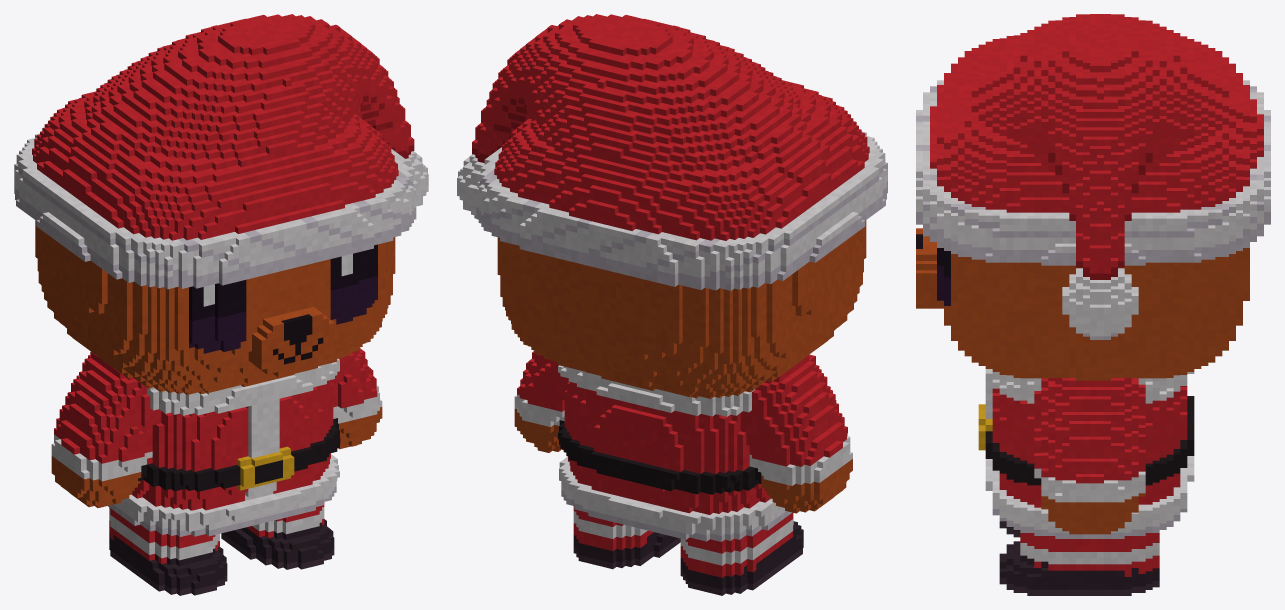
3 views of the same model, side by side, from view 1: azimuth 30°, elevation 25°; view 2: azimuth 150°, elevation 25°; view 3: azimuth 270°, elevation 25° (orthographic). The views are drawn at different scales.
Parts seen in each view (by area): view 1: Brownoel; view 2: Brownoel; view 3: Brownoel.
Boxes of the visible parts, left/top/right/bottom form: Brownoel: left=14, top=14, right=428, bottom=595; Brownoel: left=457, top=14, right=887, bottom=595; Brownoel: left=916, top=14, right=1270, bottom=595.
Bounding box in the file's own units: 1.3 × 1.7 × 1.02.
